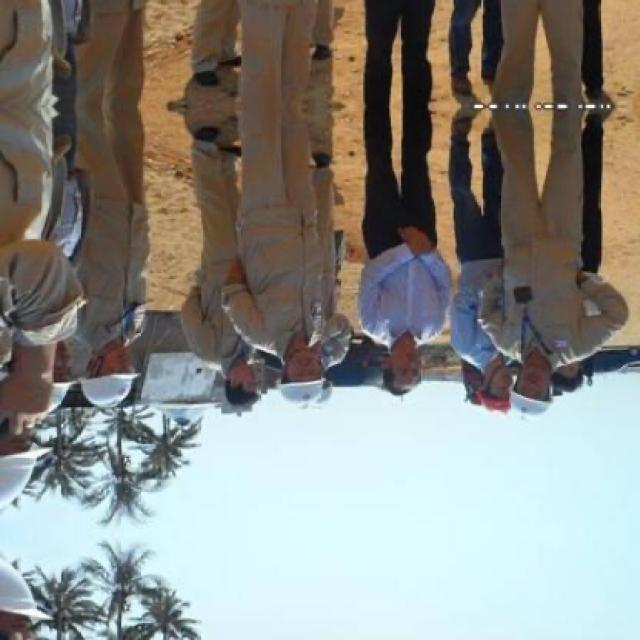con casco: (0, 369, 47, 523), (66, 339, 150, 414), (263, 342, 353, 411), (482, 357, 560, 429)
sin casco: (372, 325, 436, 394), (201, 354, 259, 428)
